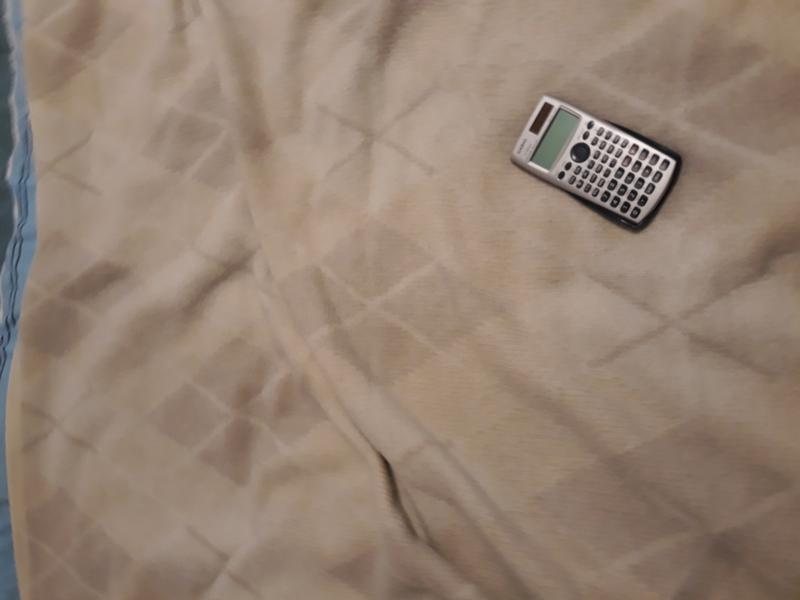CASIO_fx_991ES: (502, 80, 678, 234)
